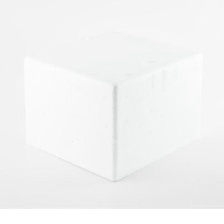foam_box: (18, 25, 206, 185)
